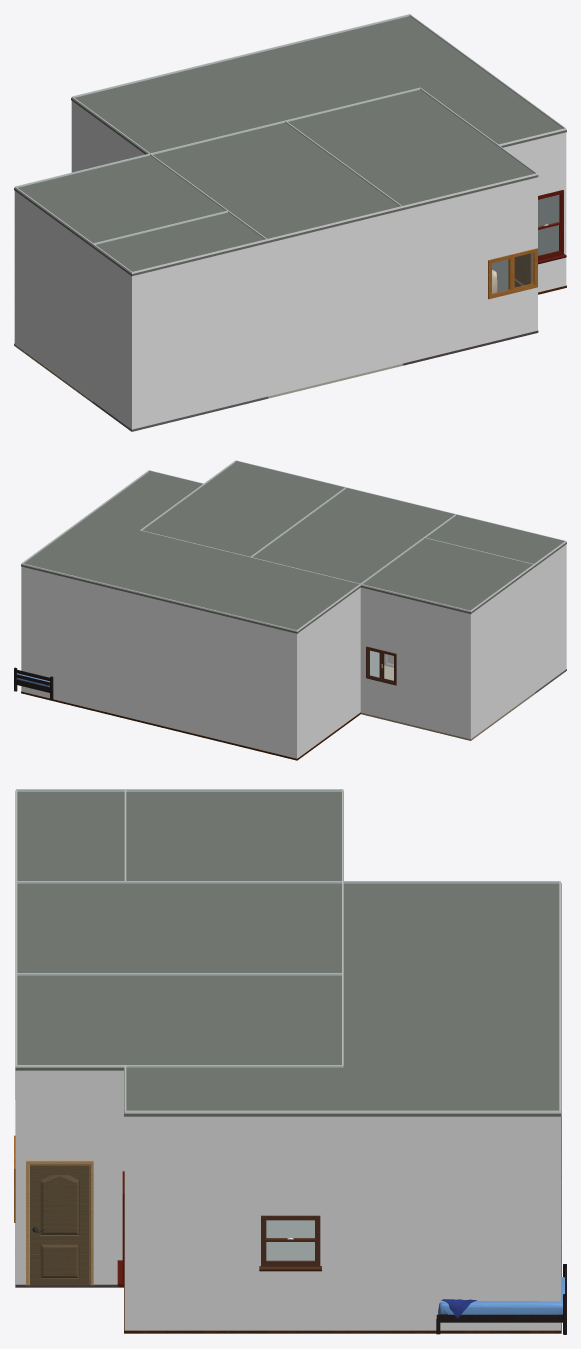
File: ProcTHOR-Train-94.glb
3 views of the same model, one above another, from view 1: azimuth 30°, elevation 25°; view 2: azimuth 150°, elevation 25°; view 3: azimuth 270°, elevation 25° (orthographic). The views are drawn at different scales.
Parts seen in each view (by area): view 1: Ceiling#room|6|c, WallInside#wall|exterior|5.02|8.37|8.37|8.37, WallInside#wall|exterior|8.37|8.37|11.71|8.37, WallInside#wall|exterior|1.67|8.37|5.02|8.37, Ceiling#room|9|c, Ceiling#room|8|c, WallInside#wall|exterior|11.71|3.35|11.71|6.69, Ceiling#room|4|c, WallInside#wall|exterior|11.71|6.69|11.71|8.37, Ceiling#room|5|c, WallInside#wall|exterior|0.00|6.69|1.67|6.69, WallInside#wall|exterior|8.37|0.00|8.37|3.35 (+6 smaller); view 2: WallInside#wall|exterior|0.00|0.00|8.37|0.00, Ceiling#room|6|c, WallInside#wall|exterior|8.37|3.35|11.71|3.35, Ceiling#room|9|c, Ceiling#room|8|c, WallInside#wall|exterior|11.71|3.35|11.71|6.69, WallInside#wall|exterior|8.37|0.00|8.37|3.35, Ceiling#room|4|c, WallInside#wall|exterior|11.71|6.69|11.71|8.37, Ceiling#room|5|c, Floor#room|6|f, Bed_20 (+3 smaller); view 3: WallInside#wall|exterior|0.00|0.00|0.00|6.69, Ceiling#room|6|c, Ceiling#room|9|c, Ceiling#room|8|c, Ceiling#room|4|c, WallInside#wall|exterior|1.67|6.69|1.67|8.37, Ceiling#room|5|c, Doorway_6, Bed_20, WallInside#wall|6|1.67|3.35|1.67|6.69, Floor#room|6|f, Window_Hung_36x32 (+1 smaller).
Part boxes in pixels (box(x1,y1,x2,y2)): Ceiling#room|6|c: box(71, 16, 566, 154); WallInside#wall|exterior|5.02|8.37|8.37|8.37: box(267, 206, 402, 396); WallInside#wall|exterior|8.37|8.37|11.71|8.37: box(132, 239, 266, 429); WallInside#wall|exterior|1.67|8.37|5.02|8.37: box(402, 173, 537, 363); Ceiling#room|9|c: box(286, 89, 538, 210); Ceiling#room|8|c: box(153, 123, 403, 242); WallInside#wall|exterior|11.71|3.35|11.71|6.69: box(14, 187, 92, 400); Ceiling#room|4|c: box(14, 155, 227, 247); WallInside#wall|exterior|11.71|6.69|11.71|8.37: box(92, 244, 131, 429); Ceiling#room|5|c: box(92, 213, 268, 276); WallInside#wall|exterior|0.00|6.69|1.67|6.69: box(499, 128, 566, 292); WallInside#wall|exterior|8.37|0.00|8.37|3.35: box(71, 97, 149, 172); WallInside#wall|exterior|0.00|0.00|8.37|0.00: box(21, 563, 297, 758); Ceiling#room|6|c: box(21, 472, 360, 633); WallInside#wall|exterior|8.37|3.35|11.71|3.35: box(360, 584, 470, 738); Ceiling#room|9|c: box(140, 462, 343, 556); Ceiling#room|8|c: box(251, 489, 453, 583); WallInside#wall|exterior|11.71|3.35|11.71|6.69: box(470, 564, 534, 738); WallInside#wall|exterior|8.37|0.00|8.37|3.35: box(297, 584, 360, 758); Ceiling#room|4|c: box(361, 539, 535, 613); WallInside#wall|exterior|11.71|6.69|11.71|8.37: box(534, 541, 566, 691); Ceiling#room|5|c: box(426, 515, 566, 566); Floor#room|6|f: box(21, 691, 360, 760); Bed_20: box(14, 667, 53, 700); WallInside#wall|exterior|0.00|0.00|0.00|6.69: box(124, 1111, 560, 1330); Ceiling#room|6|c: box(124, 883, 561, 1116); Ceiling#room|9|c: box(15, 976, 341, 1070); Ceiling#room|8|c: box(15, 884, 343, 975); Ceiling#room|4|c: box(124, 791, 343, 883); WallInside#wall|exterior|1.67|6.69|1.67|8.37: box(16, 1065, 124, 1284); Ceiling#room|5|c: box(15, 791, 126, 883); Doorway_6: box(26, 1160, 93, 1285); Bed_20: box(436, 1264, 566, 1334); WallInside#wall|6|1.67|3.35|1.67|6.69: box(125, 1065, 343, 1260); Floor#room|6|f: box(124, 1116, 561, 1333); Window_Hung_36x32: box(259, 1215, 321, 1271).
Size of what is drawn, in the model's own units: 11.92 by 3.77 by 8.51.
337 materials, 126 textured.
